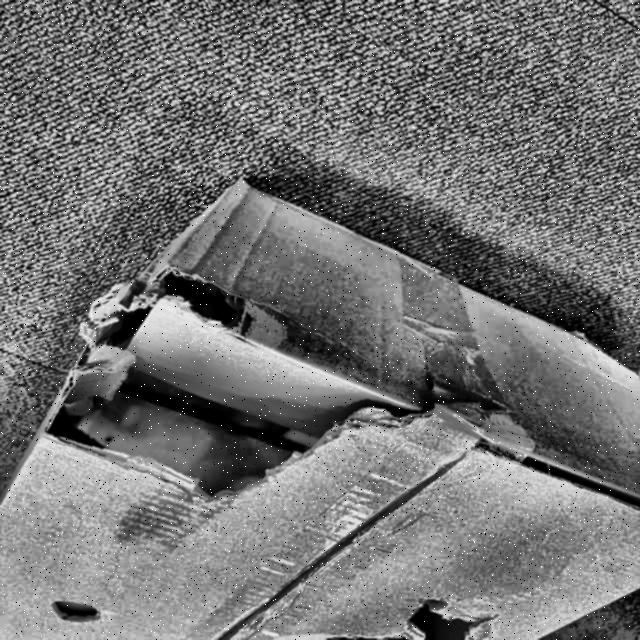box: (0, 173, 640, 640)
hole: (58, 343, 404, 497), (94, 280, 250, 348), (385, 597, 489, 640), (46, 592, 112, 630)
